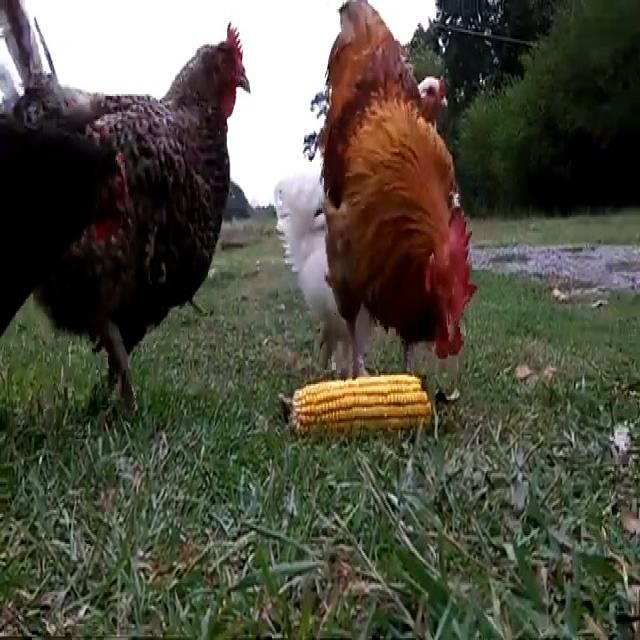feeding: (301, 0, 482, 370)
walking: (18, 16, 263, 407)
